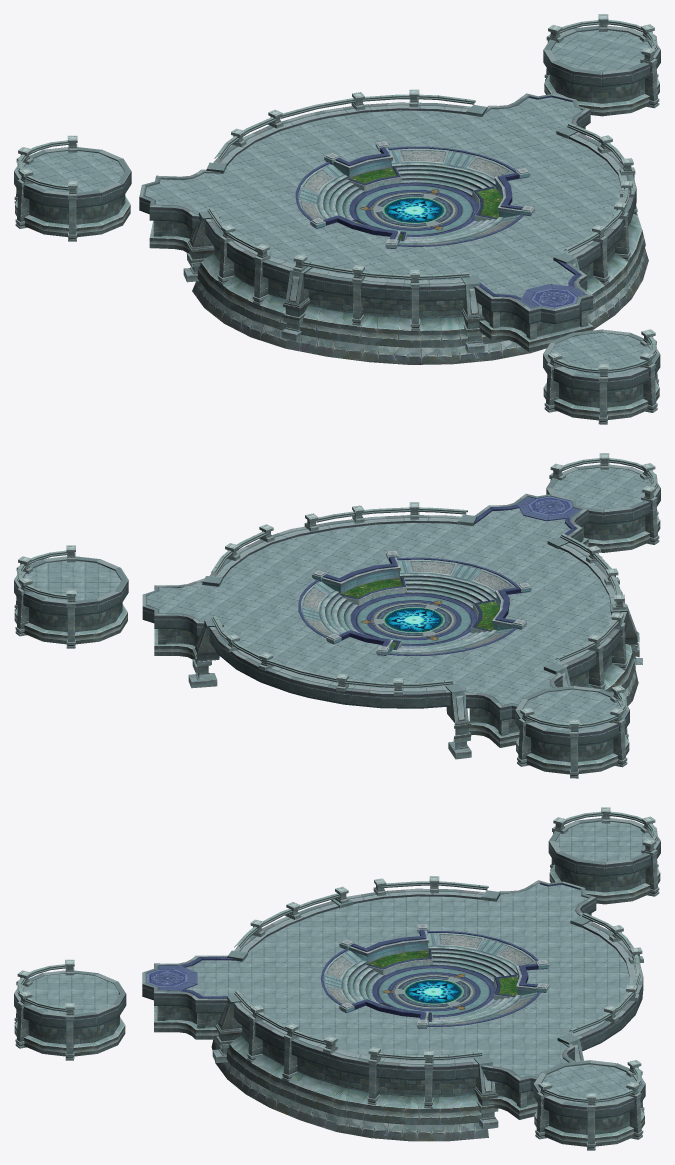
The model's file is SJZC_Terrain_01.FBX.
3 renders of one model, top to bottom at view 1: azimuth 30°, elevation 25°; view 2: azimuth 150°, elevation 25°; view 3: azimuth 270°, elevation 25°, orthographic. The views are drawn at different scales.
Visible parts, largest first — view 1: SJZC_Terrain_01; view 2: SJZC_Terrain_01; view 3: SJZC_Terrain_01.
Boxes of the visible parts, x1=… form: SJZC_Terrain_01: x1=14, y1=14, x2=660, y2=424; SJZC_Terrain_01: x1=14, y1=453, x2=660, y2=778; SJZC_Terrain_01: x1=14, y1=807, x2=660, y2=1150.
Size of the model in its own units: 10776 by 1684 by 10029.
